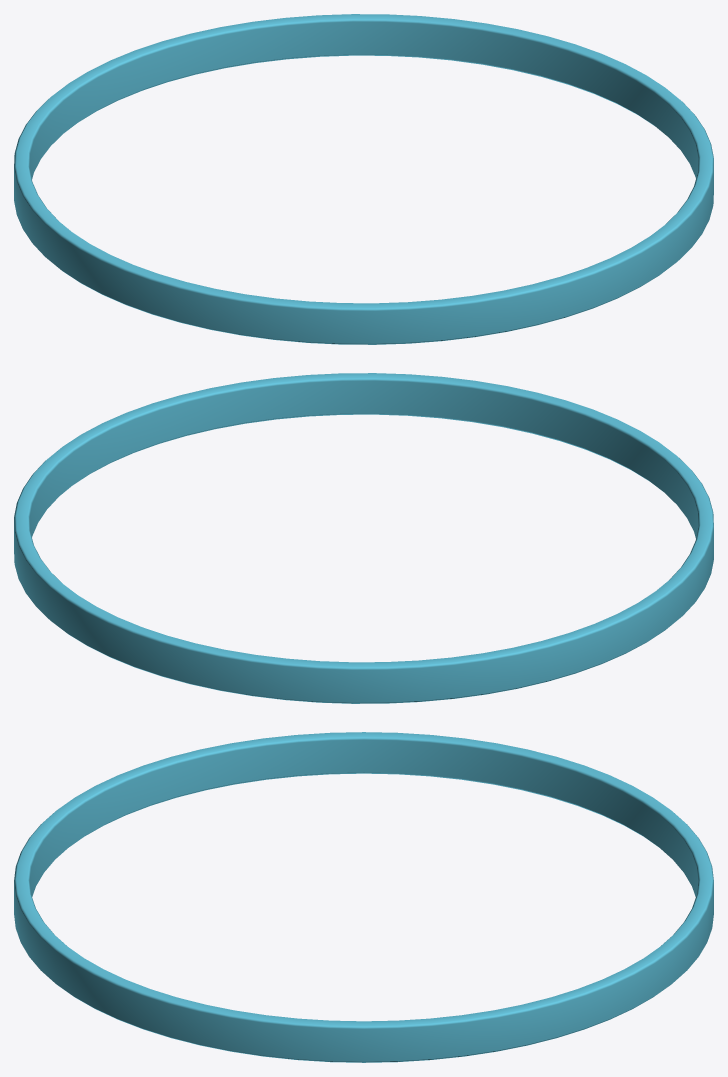
3 renders of one model, top to bottom at view 1: azimuth 30°, elevation 25°; view 2: azimuth 150°, elevation 25°; view 3: azimuth 270°, elevation 25°, orthographic.
Visible parts, largest first — view 1: seal_body; view 2: seal_body; view 3: seal_body.
Boxes of the visible parts, x1,y1,x2,y2 form: seal_body: (14, 14, 713, 344); seal_body: (14, 373, 713, 703); seal_body: (14, 732, 713, 1062).
Size of the model in its own units: 0.223 by 0.013 by 0.223.
